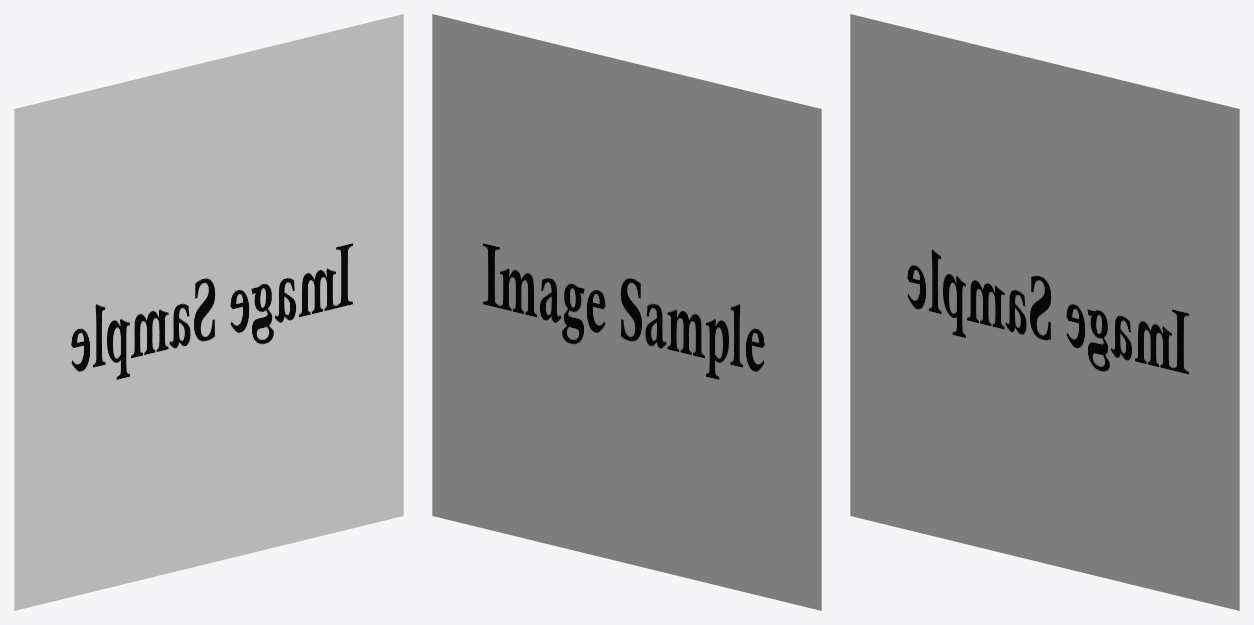
Rendered from poster_library_rules_2.fbx.
The picture shows the model from 3 angles, left to right: view 1: azimuth 30°, elevation 25°; view 2: azimuth 150°, elevation 25°; view 3: azimuth 330°, elevation 25°; orthographic projection.
Visible parts, largest first — view 1: Plane.012; view 2: Plane.012; view 3: Plane.012.
Part boxes in pixels (x1,y1,x2,y2): Plane.012: [14, 14, 403, 610]; Plane.012: [432, 14, 821, 610]; Plane.012: [850, 14, 1239, 610].
Bounding box in the file's own units: 69.48 × 85.57 × 2.21e-05.
